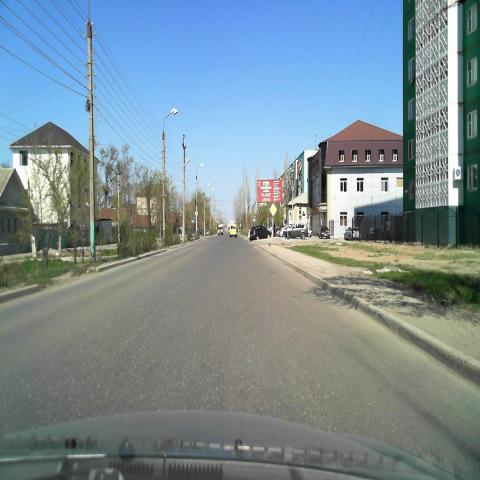2_1: (269, 203, 277, 217)
